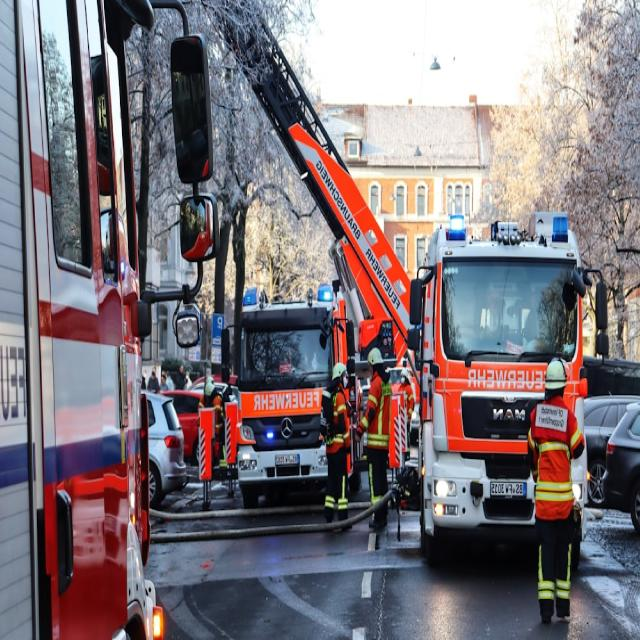emergency: (409, 214, 588, 563), (238, 285, 348, 507)
